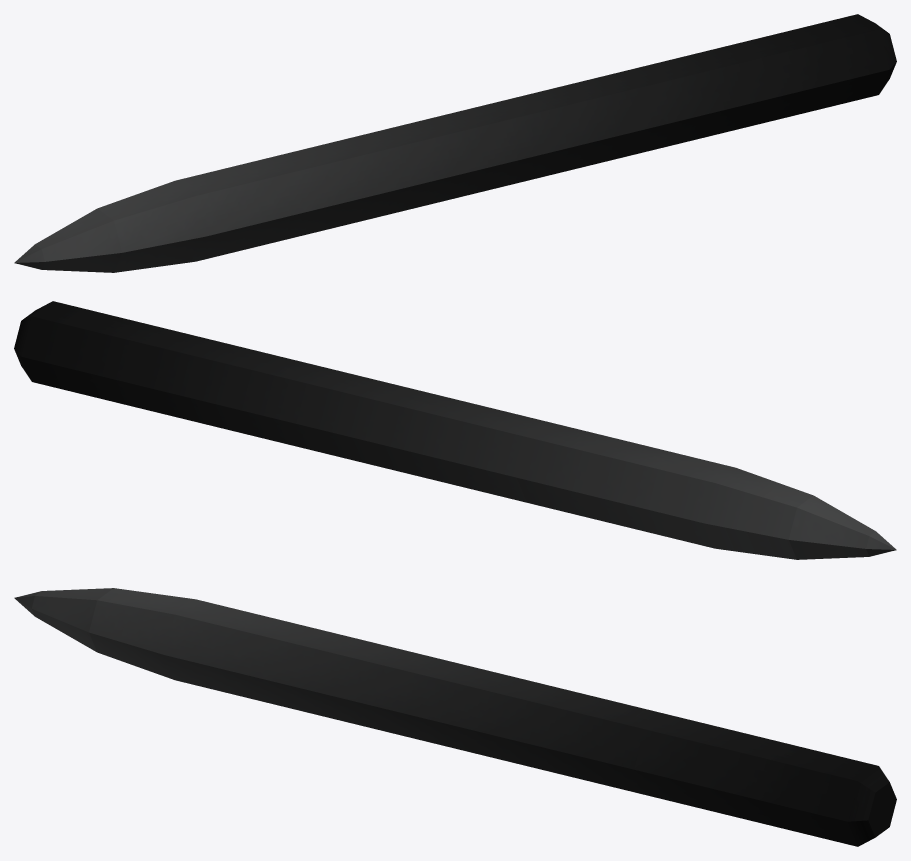
Rendered from Pen.fbx.
3 renders of one model, top to bottom at view 1: azimuth 30°, elevation 25°; view 2: azimuth 150°, elevation 25°; view 3: azimuth 330°, elevation 25°, orthographic.
Parts seen in each view (by area): view 1: Pen; view 2: Pen; view 3: Pen.
Boxes of the visible parts, box(x1,y1,x2,y2) form: Pen: box(14, 14, 896, 272); Pen: box(14, 301, 896, 559); Pen: box(14, 588, 896, 846).
Bounding box in the file's own units: 12.14 × 0.8765 × 1.01.
